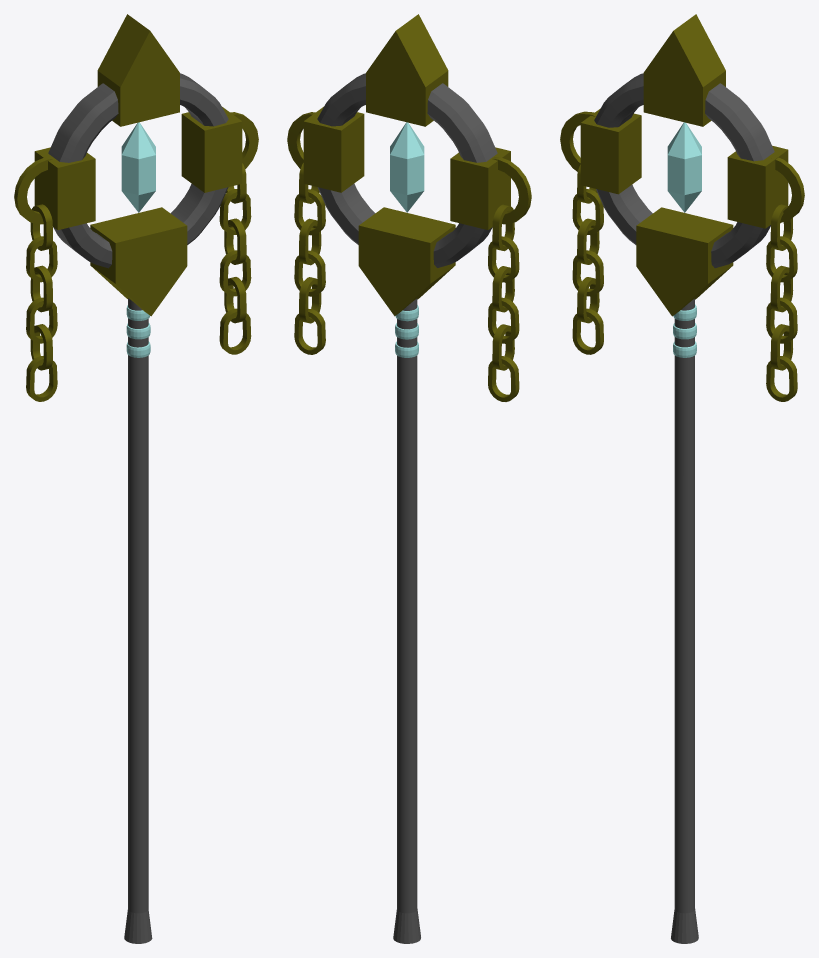
Rendered from Refined Stone Staff.fbx.
The picture shows the model from 3 angles, left to right: view 1: azimuth 30°, elevation 25°; view 2: azimuth 150°, elevation 25°; view 3: azimuth 330°, elevation 25°; orthographic projection.
Visible parts, largest first — view 1: pCylinder2, pPipe3, pPrism4, pCube1, pasted__pCube1, pasted__pasted__pCube1, pasted__pasted__pasted__pPipe4 (×5), pasted__pasted__pPipe4 (×4), pPrism5, pasted__pasted__pasted__pasted__pPipe4 (×2), pasted__pPipe4, pPipe4; view 2: pCylinder2, pPipe3, pPrism4, pCube1, pasted__pCube1, pasted__pasted__pCube1, pasted__pasted__pasted__pPipe4 (×5), pasted__pasted__pPipe4 (×4), pPrism5, pasted__pasted__pasted__pasted__pPipe4 (×2), pasted__pPipe4, pPipe4; view 3: pCylinder2, pPipe3, pPrism4, pCube1, pasted__pasted__pCube1, pasted__pCube1, pasted__pasted__pasted__pPipe4 (×5), pPrism5, pasted__pasted__pPipe4 (×3), pasted__pasted__pasted__pasted__pPipe4 (×2), pasted__pPipe4 (×2), pPipe4.
Part boxes in pixels (box(x1,y1,x2,y2)): pCylinder2: box(124, 298, 152, 943); pPipe3: box(48, 73, 228, 268); pPrism4: box(90, 207, 187, 316); pCube1: box(97, 14, 179, 126); pasted__pCube1: box(181, 107, 242, 192); pasted__pasted__pCube1: box(34, 147, 95, 229); pasted__pasted__pasted__pPipe4 (×5): box(26, 236, 251, 370); pasted__pasted__pPipe4 (×4): box(30, 189, 251, 323); pPrism5: box(121, 122, 155, 212); pasted__pasted__pasted__pasted__pPipe4 (×2): box(26, 297, 57, 401); pasted__pPipe4: box(14, 157, 53, 224); pPipe4: box(225, 112, 258, 168); pCylinder2: box(393, 298, 420, 943); pPipe3: box(317, 73, 497, 267); pPrism4: box(358, 207, 455, 316); pCube1: box(366, 14, 448, 126); pasted__pCube1: box(303, 106, 364, 192); pasted__pasted__pCube1: box(450, 147, 510, 229); pasted__pasted__pasted__pPipe4 (×5): box(294, 236, 519, 370); pasted__pasted__pPipe4 (×4): box(294, 189, 514, 323); pPrism5: box(390, 122, 424, 212); pasted__pasted__pasted__pasted__pPipe4 (×2): box(488, 297, 519, 401); pasted__pPipe4: box(492, 157, 531, 224); pPipe4: box(287, 112, 320, 168); pCylinder2: box(671, 298, 698, 943); pPipe3: box(594, 73, 774, 268); pPrism4: box(636, 207, 733, 316); pCube1: box(643, 14, 725, 126); pasted__pasted__pCube1: box(580, 108, 641, 194); pasted__pCube1: box(727, 145, 788, 228); pasted__pasted__pasted__pPipe4 (×5): box(572, 189, 797, 401); pPrism5: box(667, 122, 701, 212); pasted__pasted__pPipe4 (×3): box(766, 236, 797, 370); pasted__pasted__pasted__pasted__pPipe4 (×2): box(572, 250, 603, 354); pasted__pPipe4 (×2): box(560, 111, 793, 250); pPipe4: box(770, 155, 804, 222).
Bounding box in the file's own units: 3.37 × 12.21 × 0.6073.
